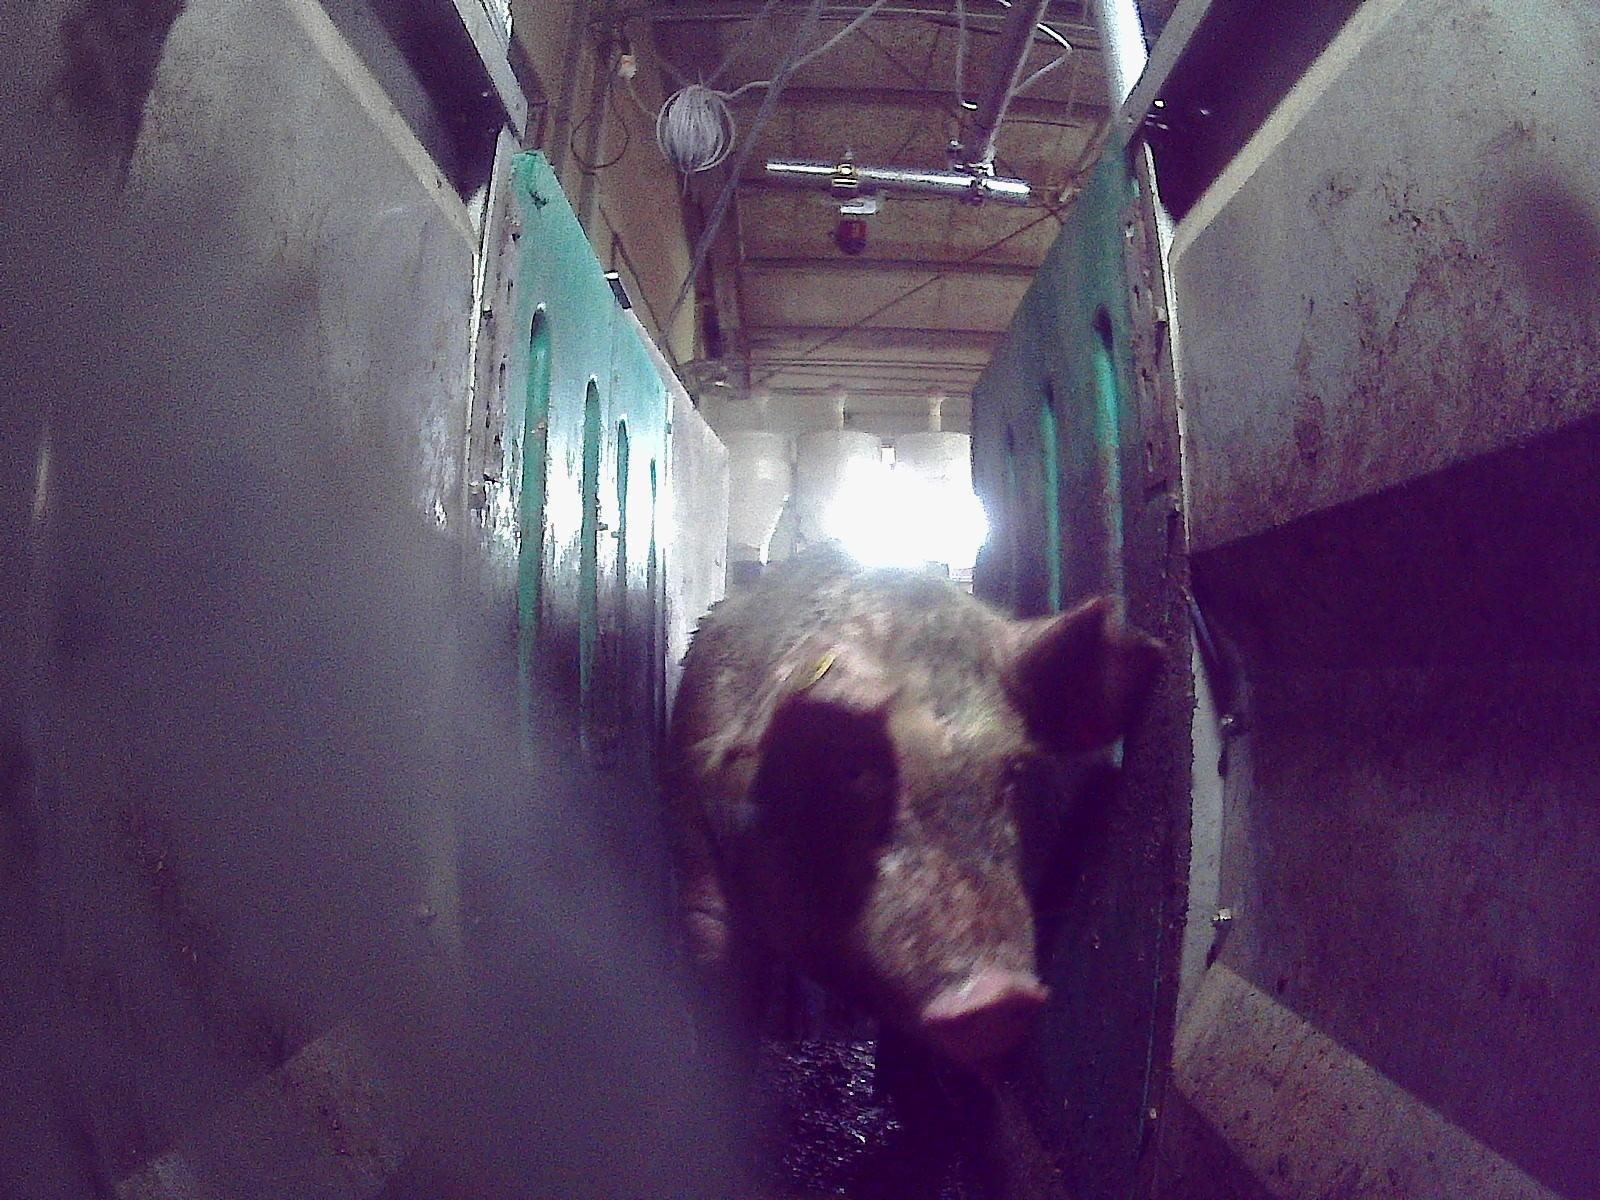Face: (763, 575, 1054, 1075)
